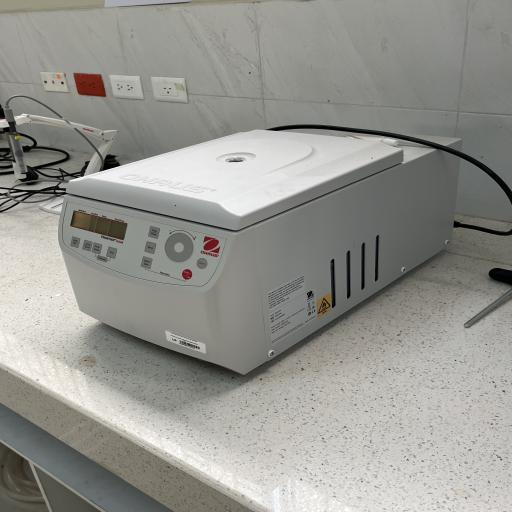Centrifuga_Ohaus_Frontier: (46, 118, 478, 384)
